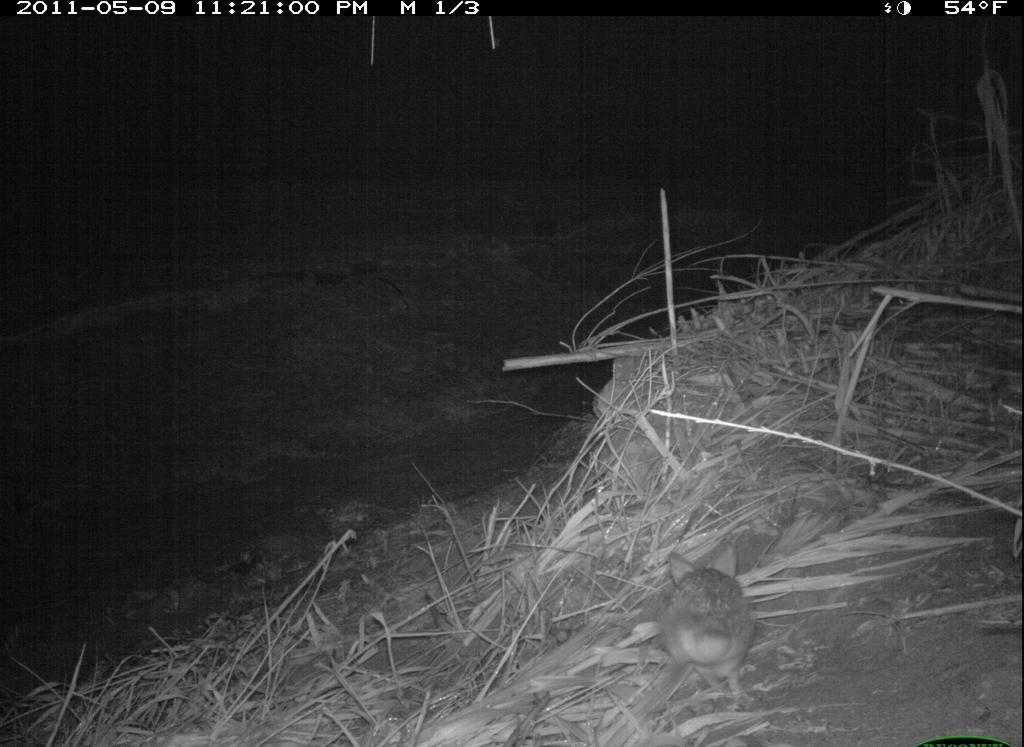rabbit: (657, 541, 761, 717)
